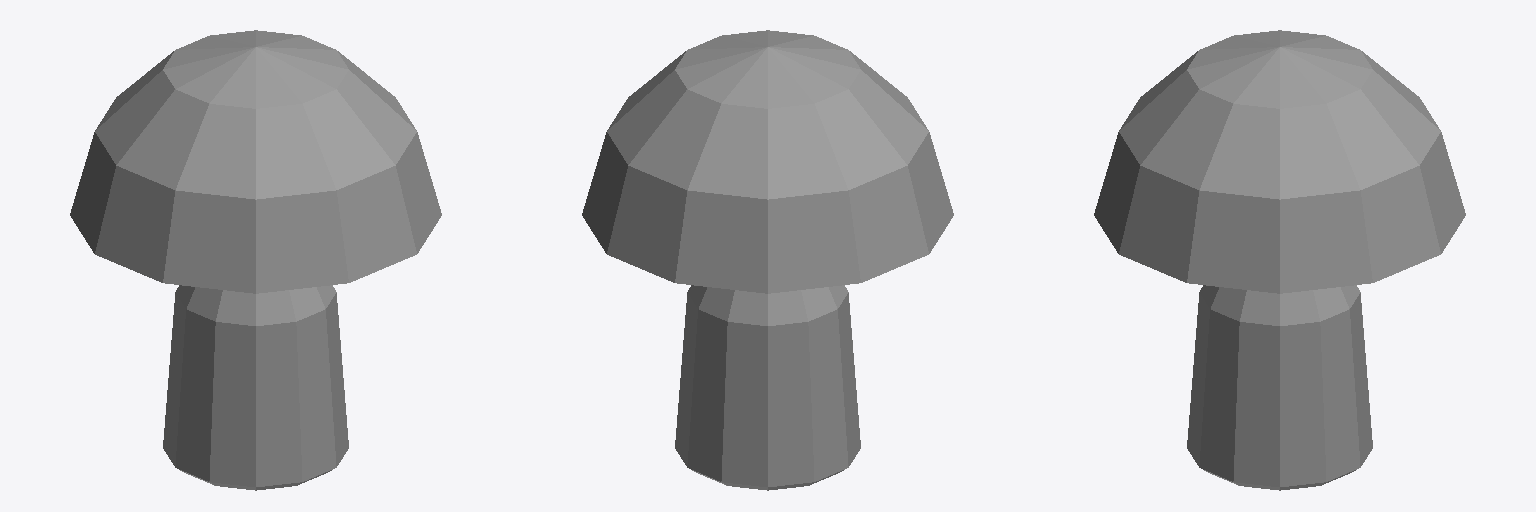
File: mushroomg10.obj
3 views of the same model, side by side, from view 1: azimuth 30°, elevation 25°; view 2: azimuth 150°, elevation 25°; view 3: azimuth 270°, elevation 25° (orthographic).
Parts seen in each view (by area): view 1: Sphere.008; view 2: Sphere.008; view 3: Sphere.008.
Boxes of the visible parts, box(x1,y1,x2,y2) form: Sphere.008: box(70, 30, 441, 490); Sphere.008: box(582, 30, 953, 490); Sphere.008: box(1094, 30, 1465, 490).
Bounding box in the file's own units: 1 × 1.24 × 1.